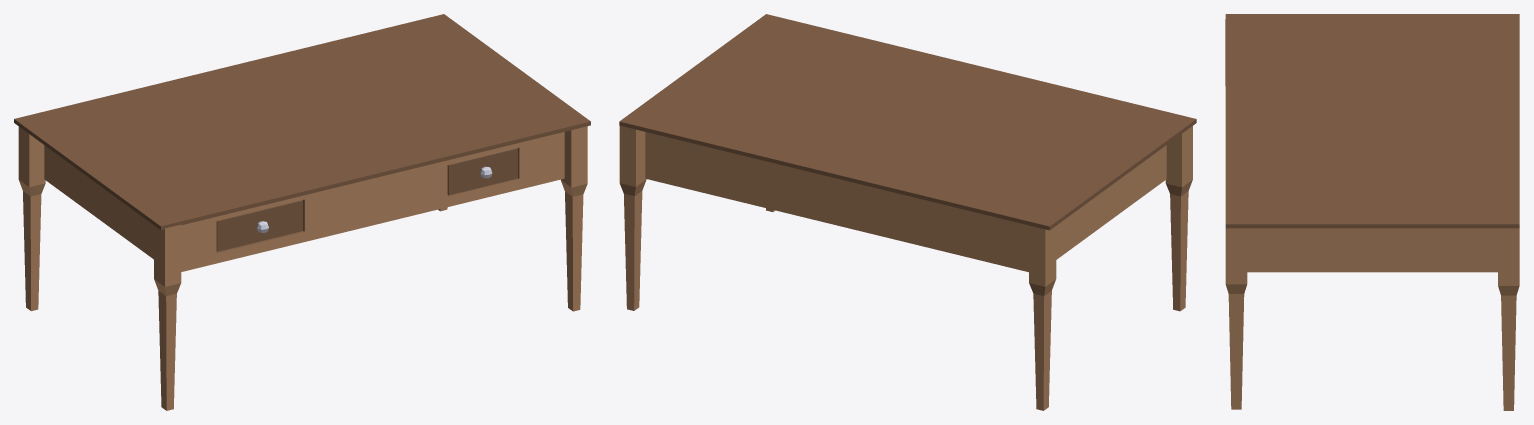
File: Colonial Table 1.fbx
3 views of the same model, side by side, from view 1: azimuth 30°, elevation 25°; view 2: azimuth 150°, elevation 25°; view 3: azimuth 270°, elevation 25° (orthographic).
Parts seen in each view (by area): view 1: Colonial Table; view 2: Colonial Table; view 3: Colonial Table.
Part boxes in pixels (box(x1,y1,x2,y2)): Colonial Table: box(14, 14, 590, 410); Colonial Table: box(619, 14, 1196, 410); Colonial Table: box(1225, 14, 1519, 410).
Size of the model in its own units: 205 by 85.76 by 121.
